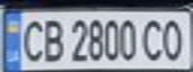0: (118, 16, 142, 62), (103, 16, 121, 62)
2: (66, 15, 87, 63)
8: (84, 16, 106, 63)
B: (39, 15, 66, 64)
C: (18, 16, 48, 64), (139, 16, 169, 63)
O: (157, 16, 190, 63)
